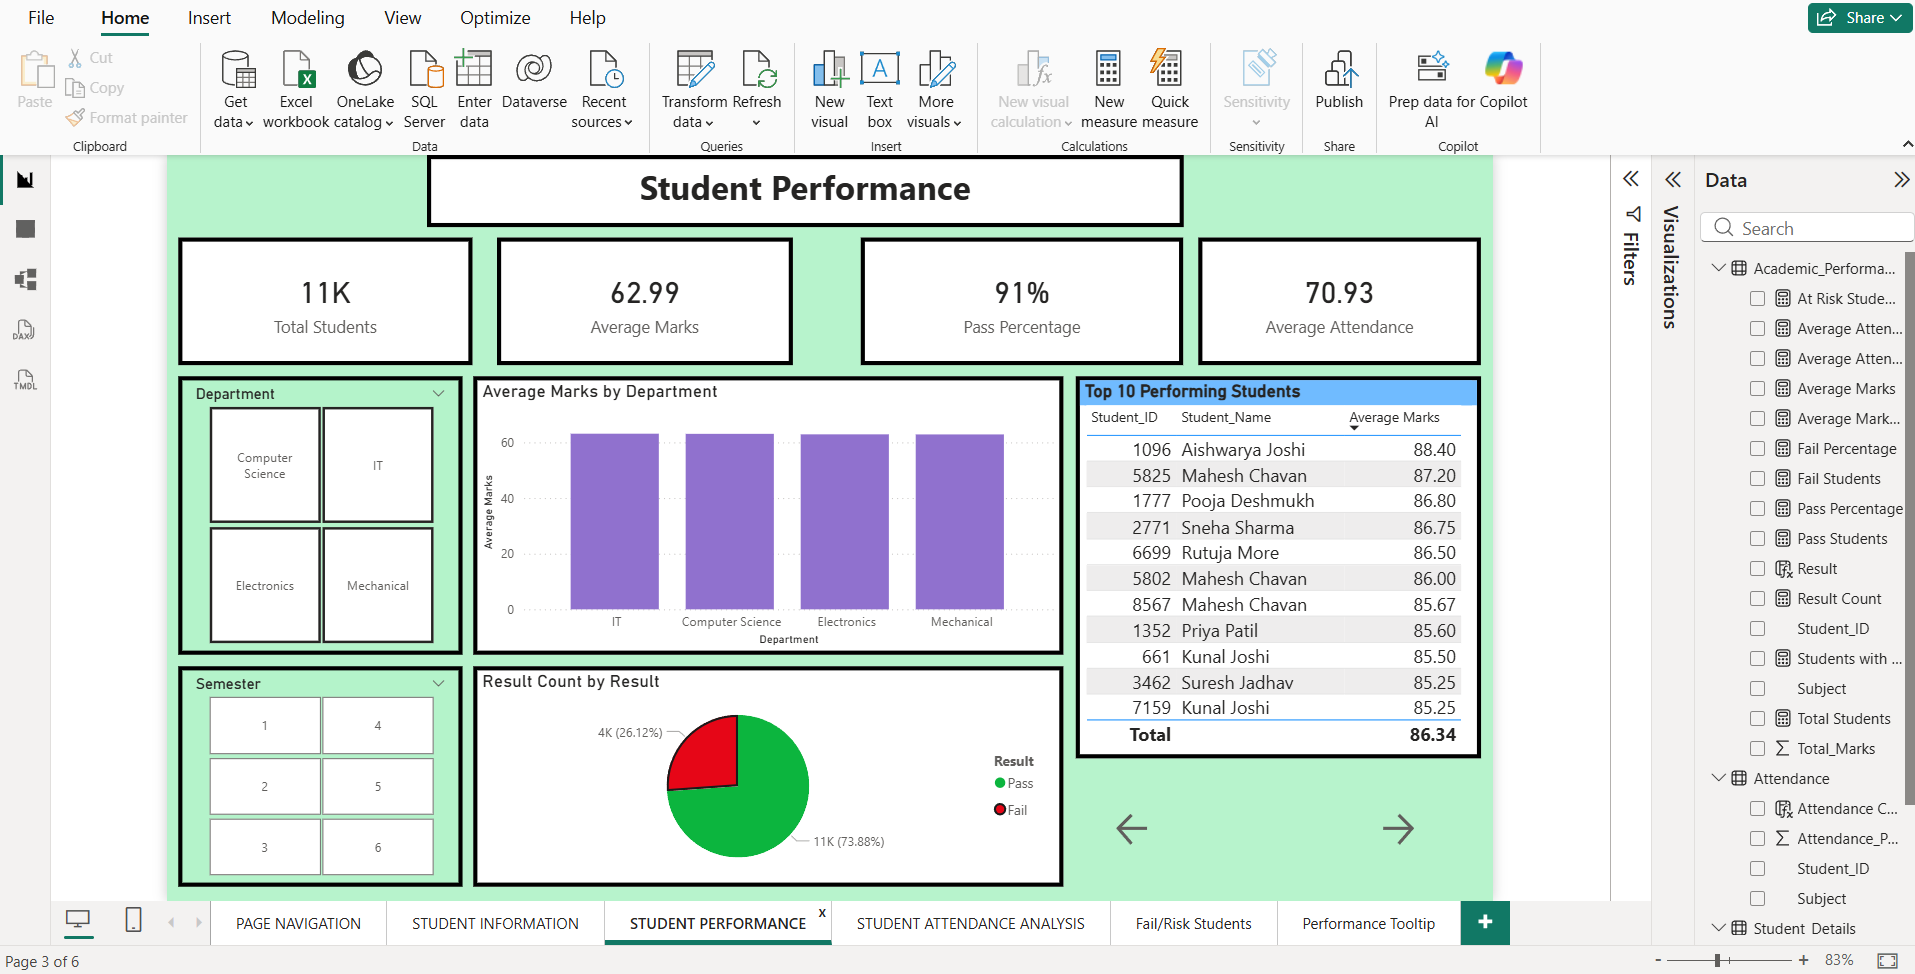

What the dashboard file says about the page in this screenshot:
{"tool":"powerbi","page":{"name":"STUDENT PERFORMANCE","canvas":[1280,720],"ordinal":2},"visuals":[{"type":"card","fields":{"Values":["Academic_Performance.Average Marks"]},"box":[318.4,79.6,285.4,123.5],"z":0},{"type":"card","fields":{"Values":["Academic_Performance.Pass Percentage"]},"box":[669.6,79.6,311.5,123.5],"z":1000},{"type":"card","fields":{"Values":["Academic_Performance.Average Attendance"]},"box":[994.9,79.6,273.1,123.5],"z":2000},{"type":"clusteredColumnChart","fields":{"Category":["Student_Details.Department"],"Y":["Academic_Performance.Average Marks"]},"box":[295,214.1,569.5,269],"z":3000},{"type":"pieChart","fields":{"Y":["Academic_Performance.Result Count"],"Category":["Academic_Performance.Result"]},"box":[295,494,569.5,212.7],"z":4000},{"type":"card","fields":{"Values":["Academic_Performance.Total Students"]},"box":[11,79.6,284,123.5],"z":5000},{"type":"textbox","box":[251.1,0,730,70],"z":6000},{"type":"slicer","fields":{"Values":["Student_Details.Department"]},"box":[11,214.1,274.4,269],"z":7000},{"type":"slicer","fields":{"Values":["Student_Details.Semester"]},"box":[11,494,274.4,212.7],"z":8000},{"type":"tableEx","title":"Top 10 Performing Students","fields":{"Values":["Student_Details.Student_ID","Student_Details.Student_Name","Academic_Performance.Average Marks"]},"box":[876.8,214.1,391.1,369.1],"z":9000},{"type":"actionButton","box":[912.1,631,100.1,39.8],"z":10000},{"type":"actionButton","box":[1167.8,631,100.1,39.8],"z":11000}]}

Visuals, with their boxes on the page's 1280x720 design canvas (x1, y1, x2, y2). These are canvas units, not pixel positions in the 1915x974 screenshot, which may show the page scaled, cropped or inside an application window:
card - Academic_Performance.Average Marks: Rect(318, 80, 604, 203)
card - Academic_Performance.Pass Percentage: Rect(670, 80, 981, 203)
card - Academic_Performance.Average Attendance: Rect(995, 80, 1268, 203)
clusteredColumnChart - Student_Details.Department x Academic_Performance.Average Marks: Rect(295, 214, 864, 483)
pieChart - Academic_Performance.Result Count x Academic_Performance.Result: Rect(295, 494, 864, 707)
card - Academic_Performance.Total Students: Rect(11, 80, 295, 203)
textbox: Rect(251, 0, 981, 70)
slicer - Student_Details.Department: Rect(11, 214, 285, 483)
slicer - Student_Details.Semester: Rect(11, 494, 285, 707)
"Top 10 Performing Students" tableEx: Rect(877, 214, 1268, 583)
actionButton: Rect(912, 631, 1012, 671)
actionButton: Rect(1168, 631, 1268, 671)
